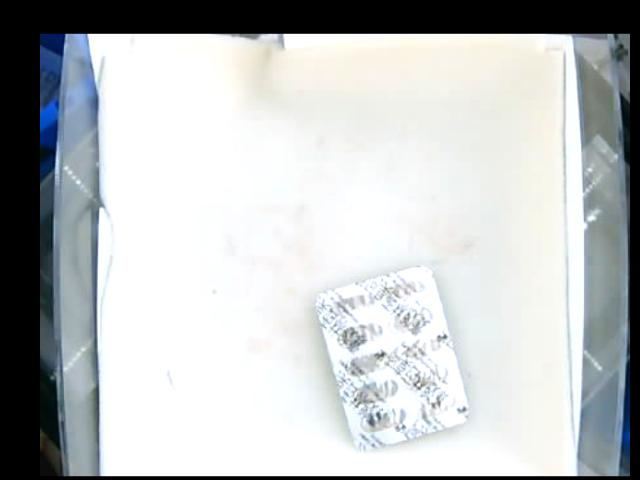Medicine: (317, 266, 473, 452)
